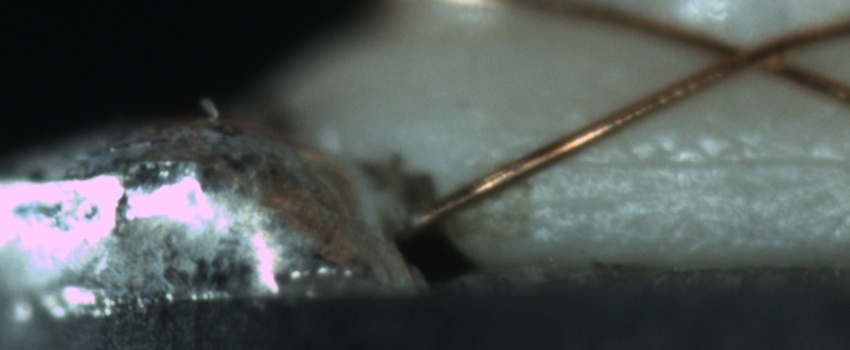CL: (705, 28, 793, 82)
DL: (558, 130, 849, 193)
